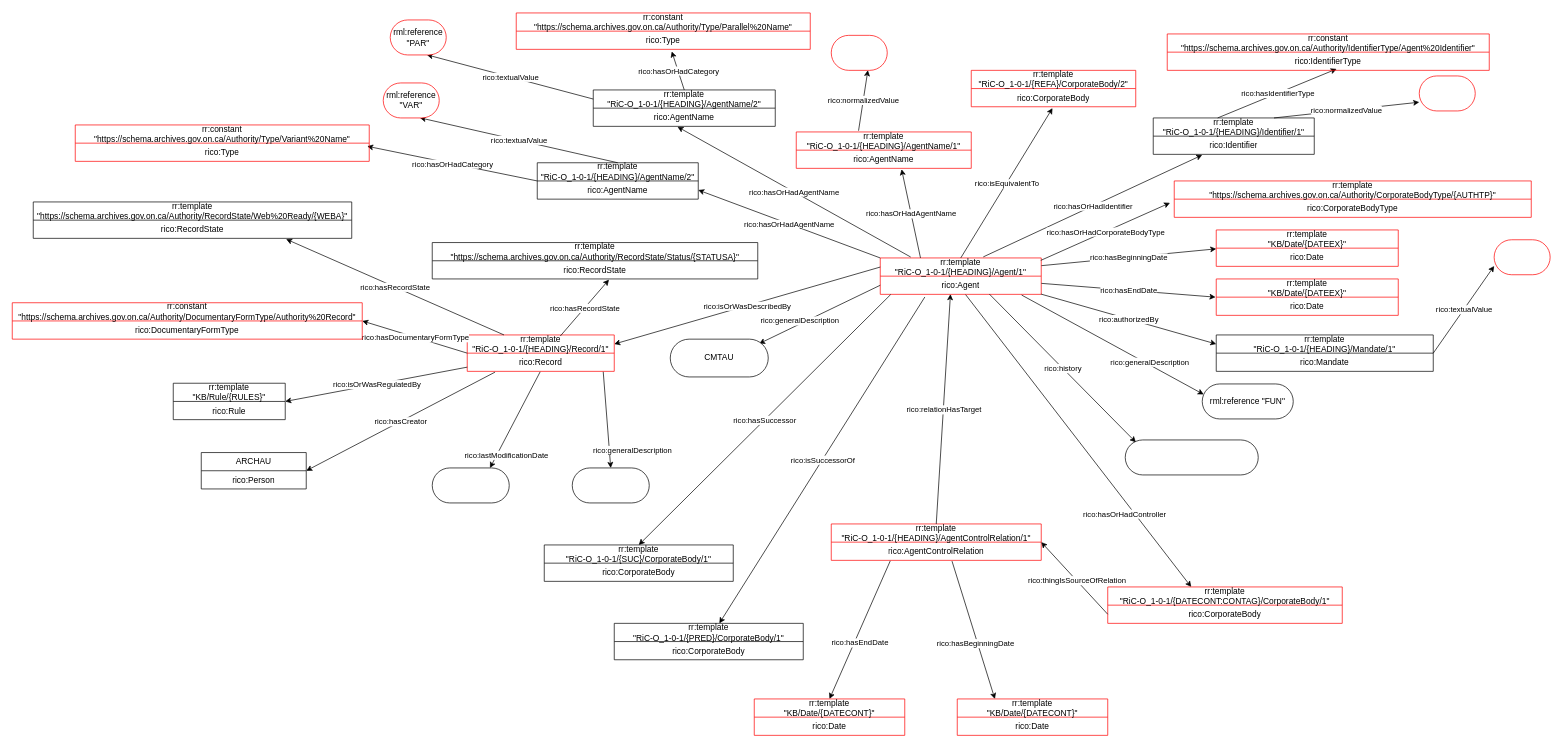
This 1562x750 diagram has some shape labels left out. Each missing label, with the centre of its shape:
MOD_DATE: pixel 470 485
rml:reference " ADM ": pixel 1191 457
rml:reference " SOURCE ": pixel 610 485
rml:reference "AA": pixel 1521 257
rml:reference "NAME": pixel 859 52
rml:reference "REFA": pixel 1447 93
